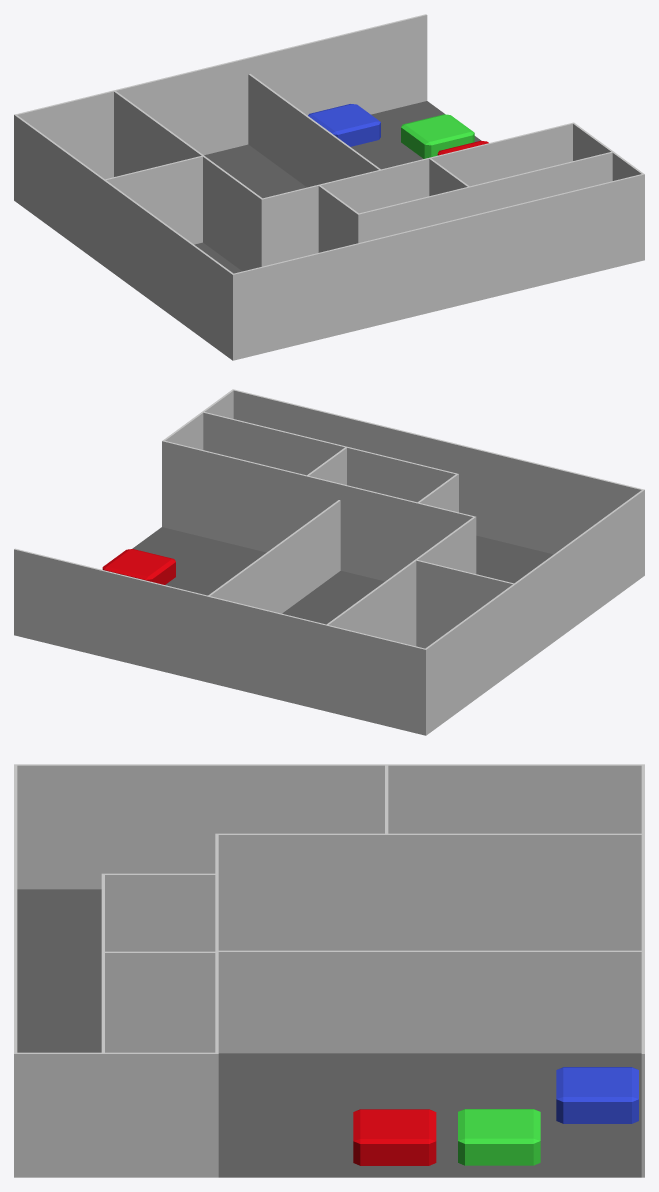
The model's file is Factory_2.glb.
3 renders of one model, top to bottom at view 1: azimuth 30°, elevation 25°; view 2: azimuth 150°, elevation 25°; view 3: azimuth 270°, elevation 25°, orthographic. The views are drawn at different scales.
Visible parts, largest first — view 1: WallAndFloor_2, GreenBox, BlueBox; view 2: WallAndFloor_2, RedBox; view 3: WallAndFloor_2, RedBox, BlueBox, GreenBox.
Part boxes in pixels (x1,y1,x2,y2): WallAndFloor_2: [14, 14, 644, 360]; GreenBox: [401, 114, 474, 158]; BlueBox: [308, 104, 380, 146]; WallAndFloor_2: [14, 389, 644, 735]; RedBox: [102, 549, 175, 584]; WallAndFloor_2: [14, 764, 644, 1177]; RedBox: [353, 1109, 436, 1165]; BlueBox: [556, 1067, 638, 1123]; GreenBox: [458, 1109, 540, 1165].
Size of the model in its own units: 166 by 33 by 152.
